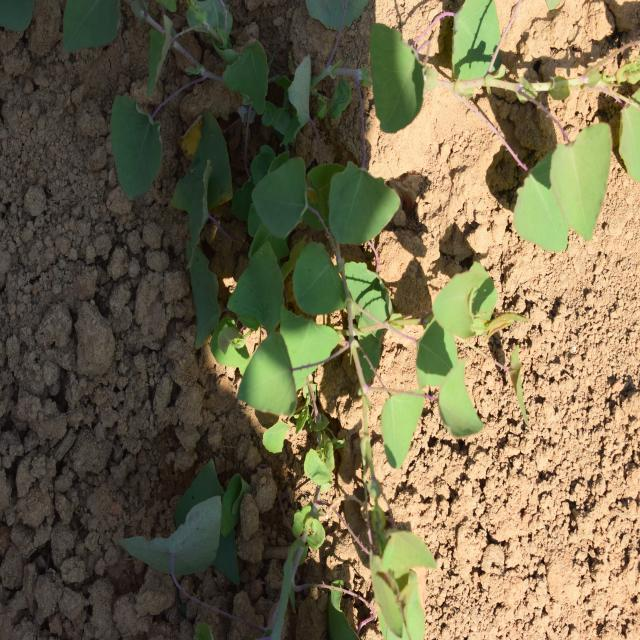Asiatic_Smartweed: (231, 146, 395, 446), (115, 21, 244, 271), (369, 252, 501, 482), (502, 94, 624, 262), (360, 24, 442, 142)
